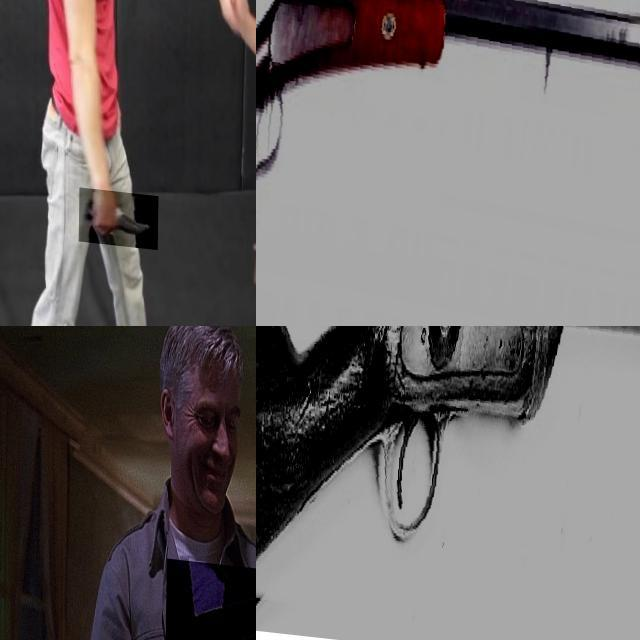-: (80, 184, 160, 244)
gun-knife-thesis - v11 Yolov5 augmented: (256, 0, 640, 326), (256, 326, 640, 640), (165, 553, 256, 640)
